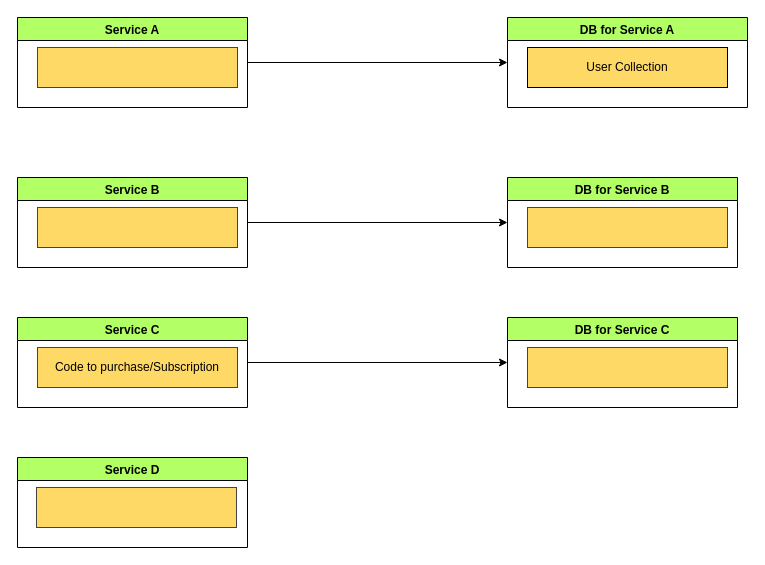
Image size: 765x565. Some labels were removed from this diagram. The centre of each missing label's shape, as x and y in pixels:
"Code to list available Movies[CRUD]" belongs at [137,227].
"Code to show movies particular user" belongs at [136,507].
"Code to sign up a User" belongs at [137,67].
"Movies Collection" belongs at [627,227].
"Orders Collection" belongs at [627,367].
